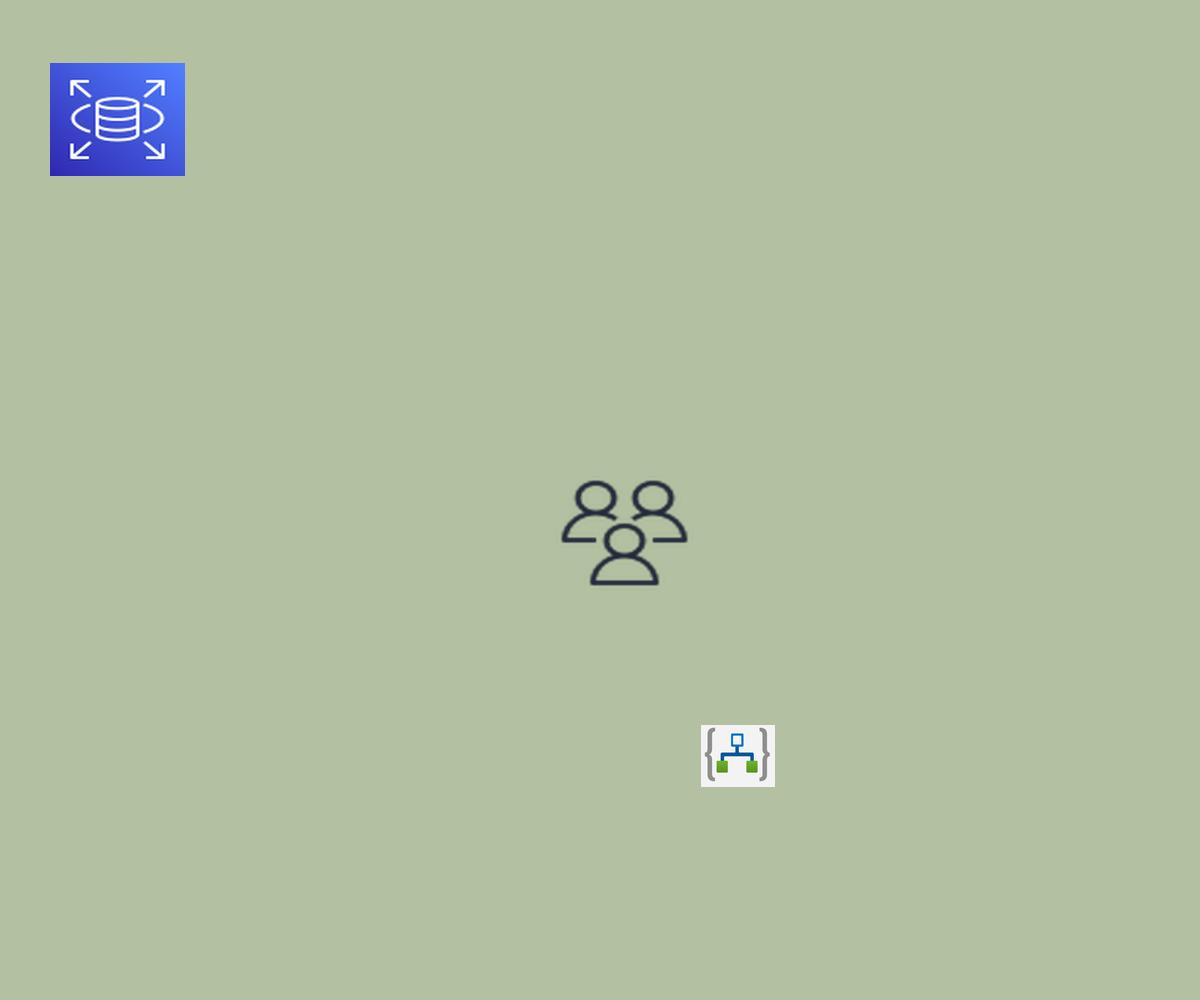AWS-RDS: (50, 63, 185, 176)
AWS-Res_Users: (556, 476, 693, 590)
Azure_integration-204-Logic-Apps: (701, 725, 775, 787)
